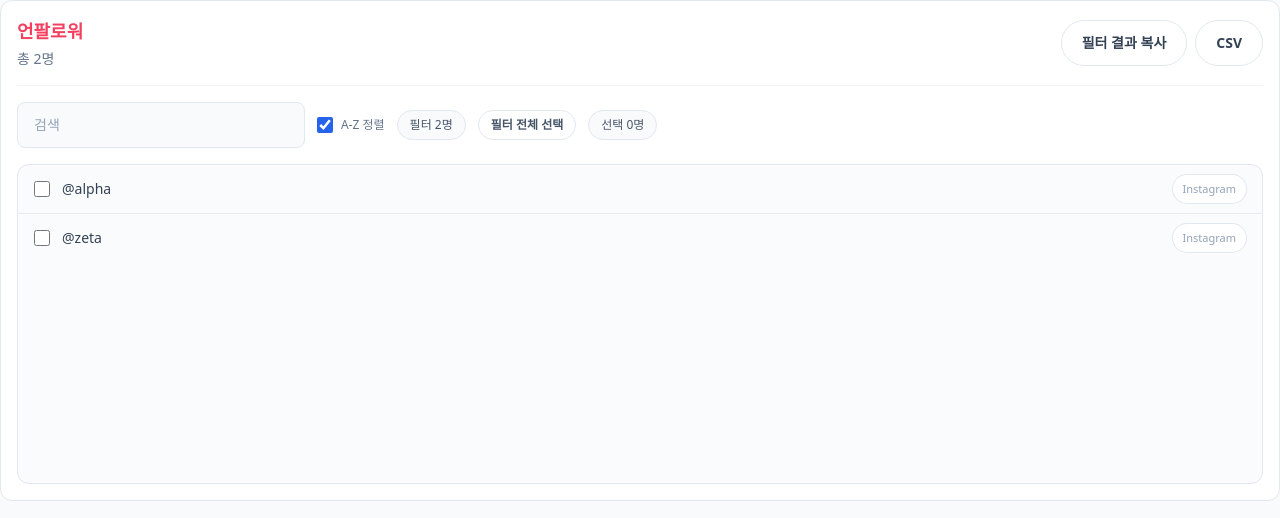
Scenario: ListView › copies the filtered usernames and reports success
This screenshot has width=1280, height=518.
What coordinates should you click on to do the following:
click the button "필터 결과 복사"
I would click on:
 (1124, 43)
Its box is x1=1061 y1=20 x2=1187 y2=66.
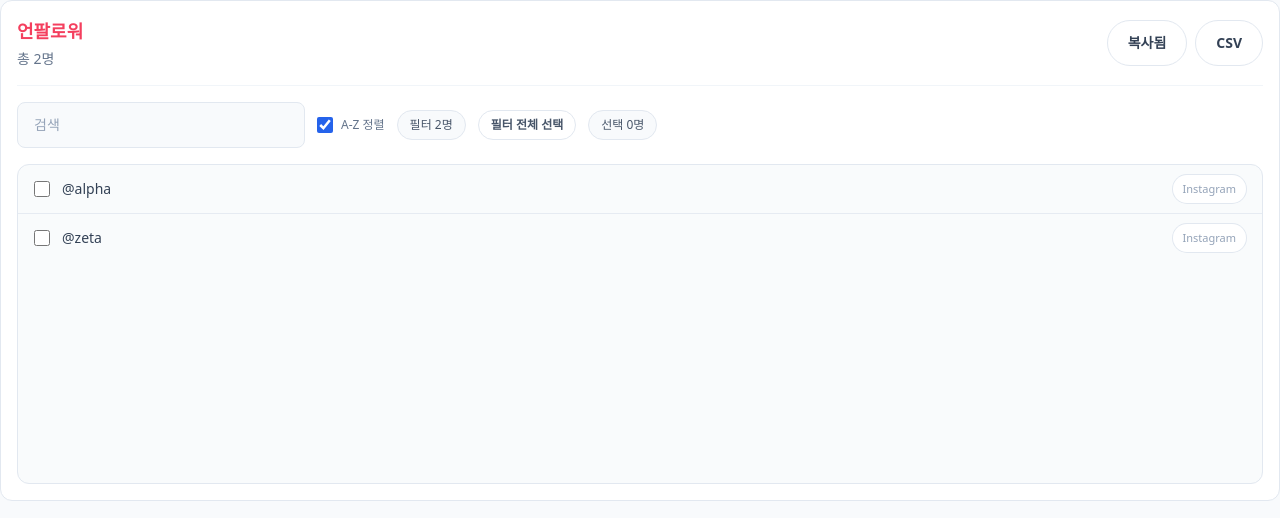
Expected: the text "복사됨" is shown, x1=1107 y1=20 x2=1187 y2=66
